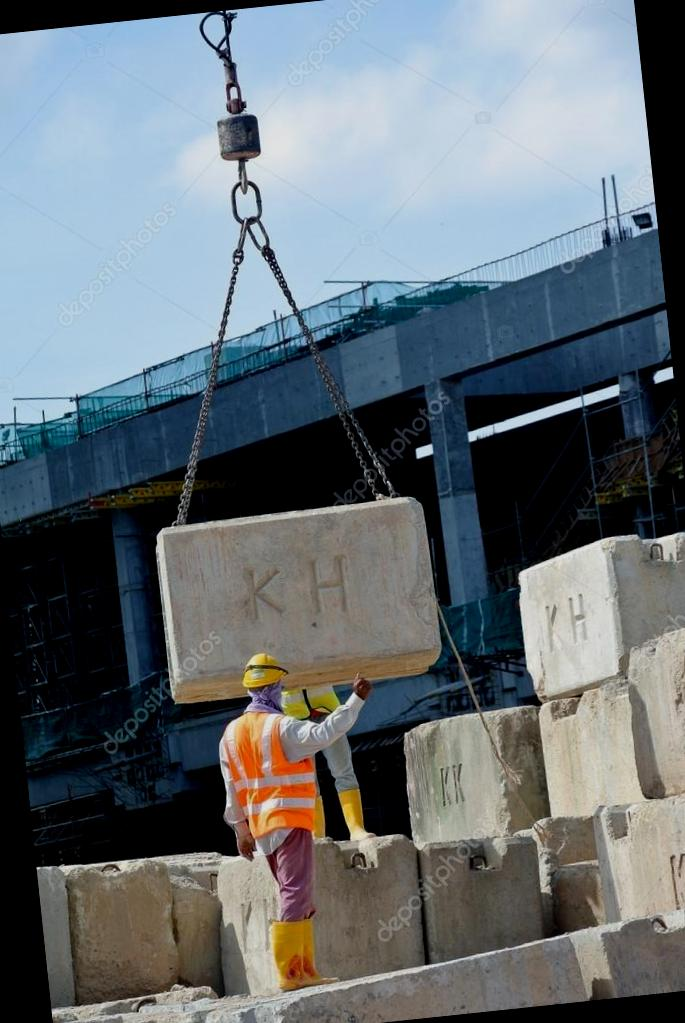person: (203, 632, 377, 994)
